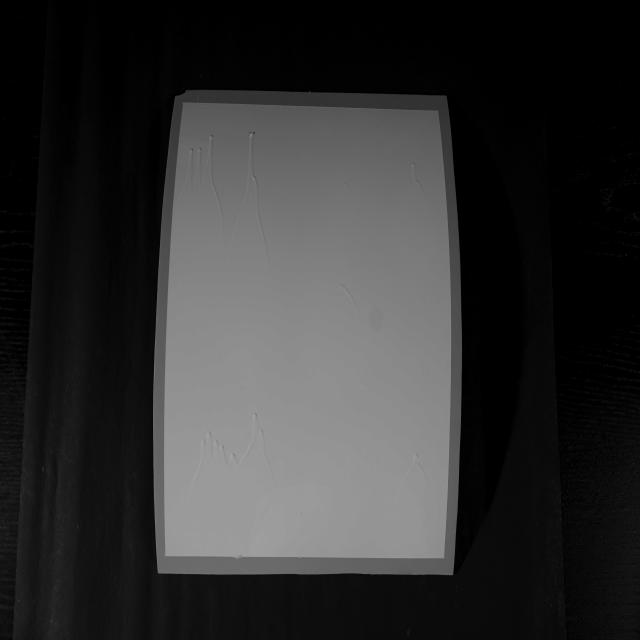paint drips: (175, 128, 273, 258), (181, 408, 279, 504), (314, 280, 364, 328), (398, 448, 432, 500), (408, 158, 433, 215), (341, 177, 356, 198)
